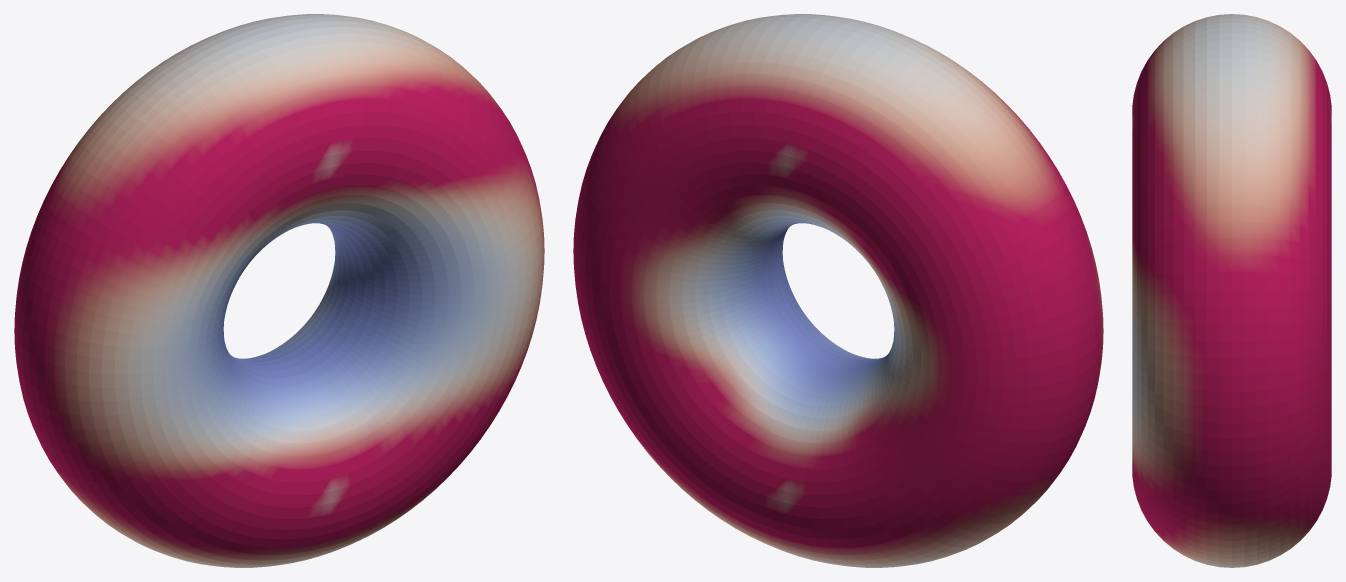
3 renders of one model, left to right at view 1: azimuth 30°, elevation 25°; view 2: azimuth 150°, elevation 25°; view 3: azimuth 270°, elevation 25°, orthographic. The views are drawn at different scales.
Visible parts, largest first — view 1: world; view 2: world; view 3: world.
Boxes of the visible parts, x1,y1,x2,y2 form: world: [14, 14, 544, 567]; world: [573, 14, 1103, 567]; world: [1132, 14, 1331, 567].
Bounding box in the file's own units: 24 × 24 × 8.65.
